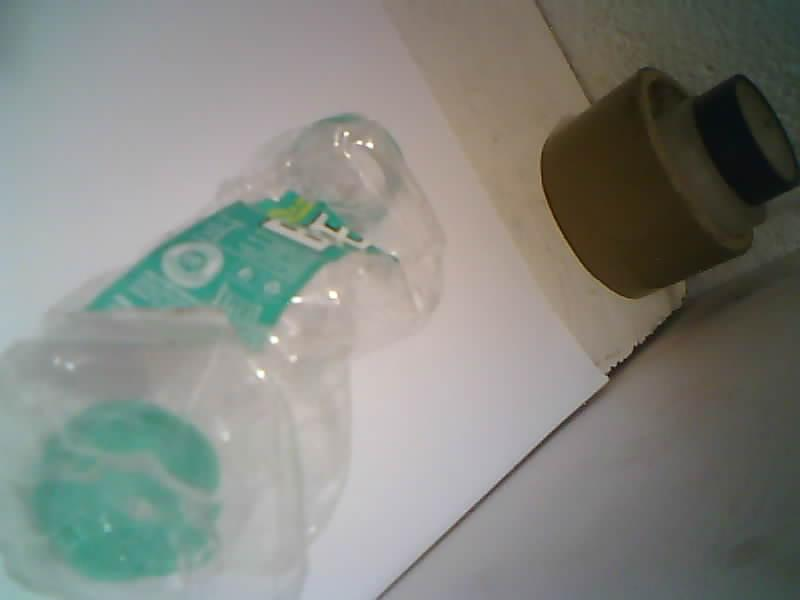non-biodegradable: (0, 115, 443, 599)
